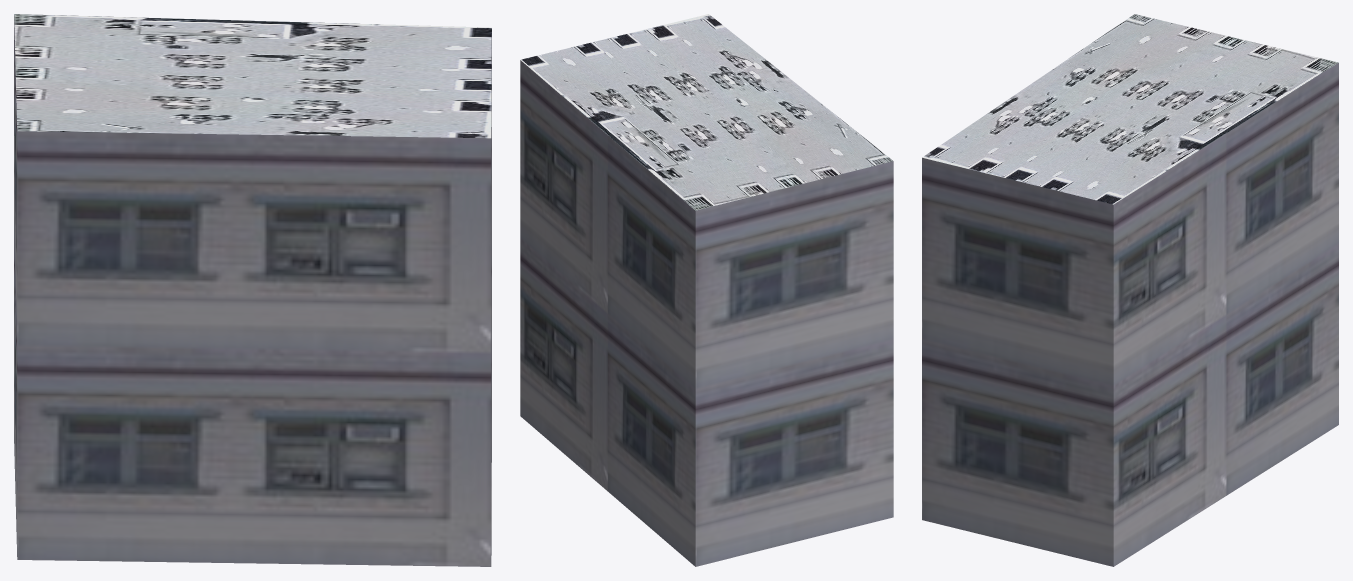
File: ResTex__2434.fbx
The picture shows the model from 3 angles, left to right: view 1: azimuth 30°, elevation 25°; view 2: azimuth 150°, elevation 25°; view 3: azimuth 270°, elevation 25°; orthographic projection. The views are drawn at different scales.
Parts seen in each view (by area): view 1: CityEngineMaterial_1_m, CityEngineMaterial_8_m; view 2: CityEngineMaterial_1_m, CityEngineMaterial_8_m; view 3: CityEngineMaterial_1_m, CityEngineMaterial_8_m.
Part boxes in pixels (x1,y1,x2,y2): CityEngineMaterial_1_m: (14, 15, 491, 566); CityEngineMaterial_8_m: (14, 14, 491, 138); CityEngineMaterial_1_m: (520, 60, 893, 566); CityEngineMaterial_8_m: (520, 14, 893, 210); CityEngineMaterial_1_m: (922, 63, 1338, 566); CityEngineMaterial_8_m: (922, 14, 1338, 204).
Size of the model in its own units: 6.77 by 6 by 6.26.
2 materials, 2 textured.
